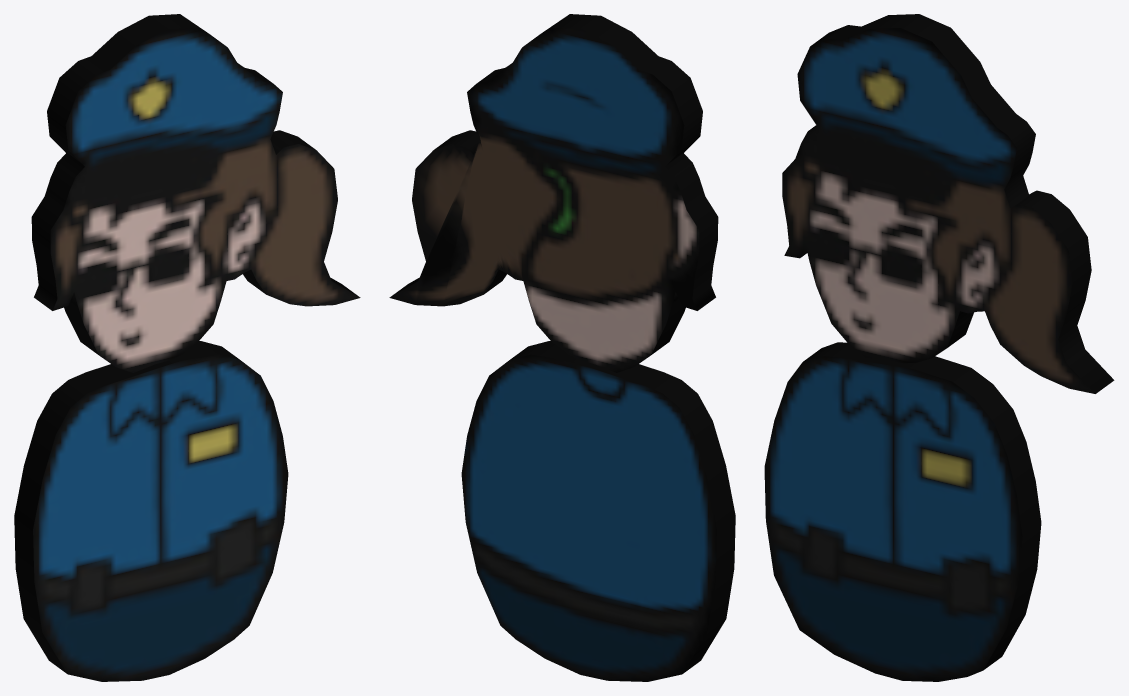
The model's file is Polizia_Donna.fbx.
3 renders of one model, left to right at view 1: azimuth 30°, elevation 25°; view 2: azimuth 150°, elevation 25°; view 3: azimuth 330°, elevation 25°, orthographic.
Parts seen in each view (by area): view 1: polySurface21; view 2: polySurface21; view 3: polySurface21.
Part boxes in pixels (bbox=[...]): polySurface21: bbox=[14, 14, 360, 681]; polySurface21: bbox=[389, 14, 735, 681]; polySurface21: bbox=[764, 14, 1114, 681].
Bounding box in the file's own units: 0.3907 × 0.7359 × 0.0388.
